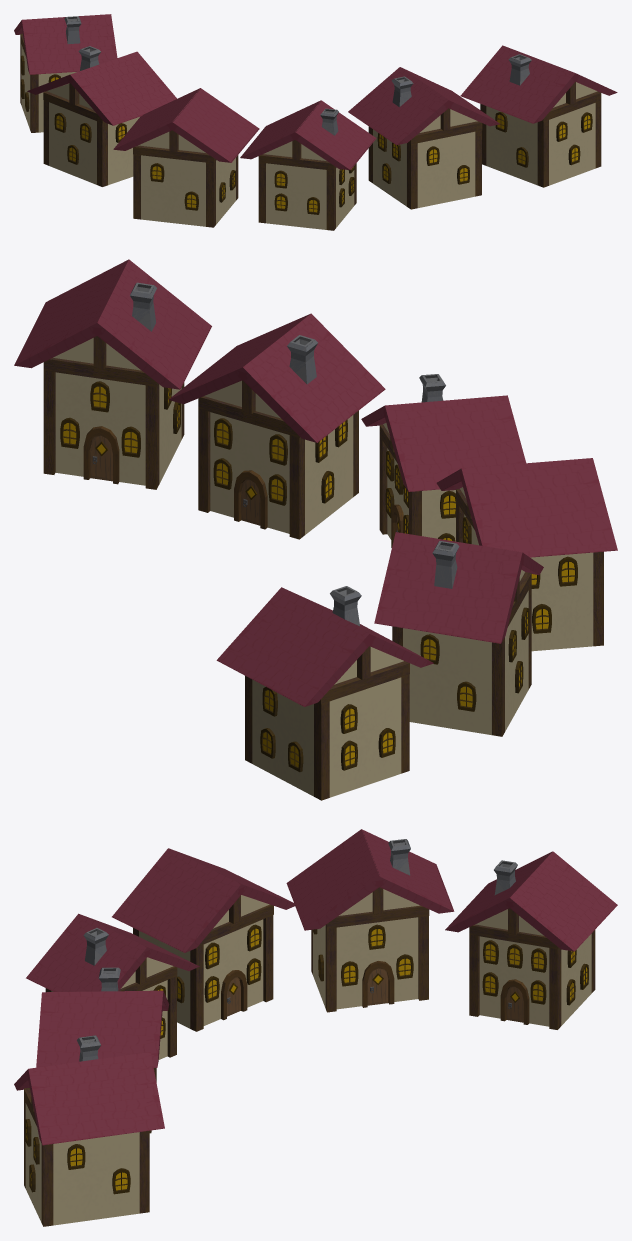
File: House_group.fbx
The picture shows the model from 3 angles, top to bottom: view 1: azimuth 30°, elevation 25°; view 2: azimuth 150°, elevation 25°; view 3: azimuth 270°, elevation 25°; orthographic projection. The views are drawn at different scales.
Parts seen in each view (by area): view 1: House_group; view 2: House_group; view 3: House_group.
Part boxes in pixels (left/top/right/bottom): House_group: left=14, top=14, right=617, bottom=230; House_group: left=14, top=259, right=617, bottom=800; House_group: left=14, top=829, right=617, bottom=1226.
Size of the model in its own units: 9.74 by 2.35 by 8.8.
